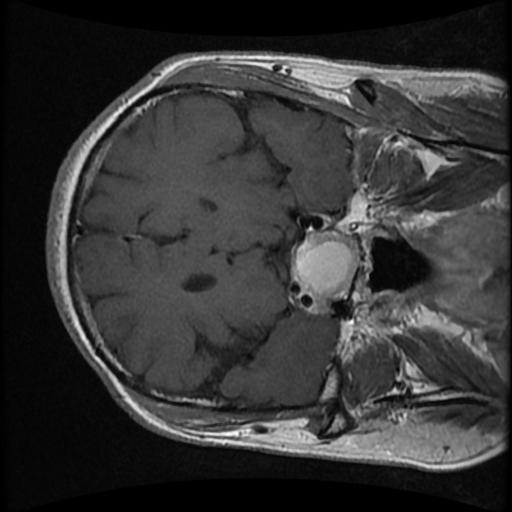pituitary tumour: (292, 231, 360, 316)
